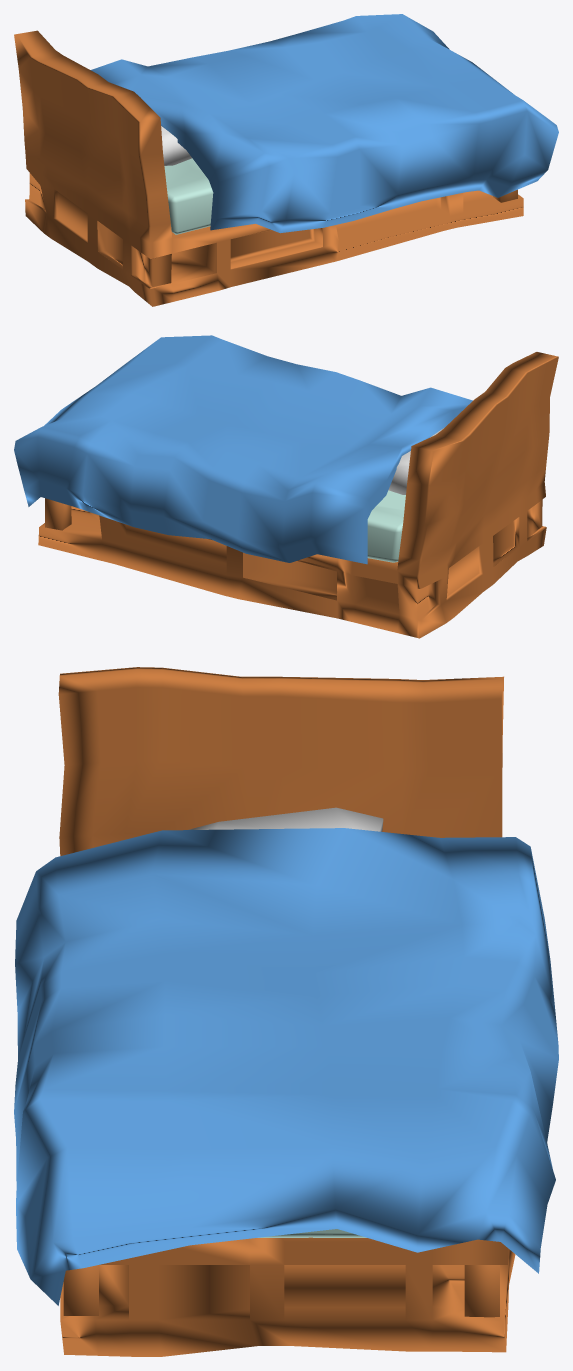
File: Bed.fbx
The picture shows the model from 3 angles, top to bottom: view 1: azimuth 30°, elevation 25°; view 2: azimuth 150°, elevation 25°; view 3: azimuth 270°, elevation 25°; orthographic projection. The views are drawn at different scales.
Visible parts, largest first — view 1: Bed; view 2: Bed; view 3: Bed.
Boxes of the visible parts, bbox=[...] form: Bed: bbox=[14, 14, 558, 306]; Bed: bbox=[14, 335, 558, 638]; Bed: bbox=[14, 667, 558, 1356].
Bounding box in the file's own units: 332 × 143 × 202.
